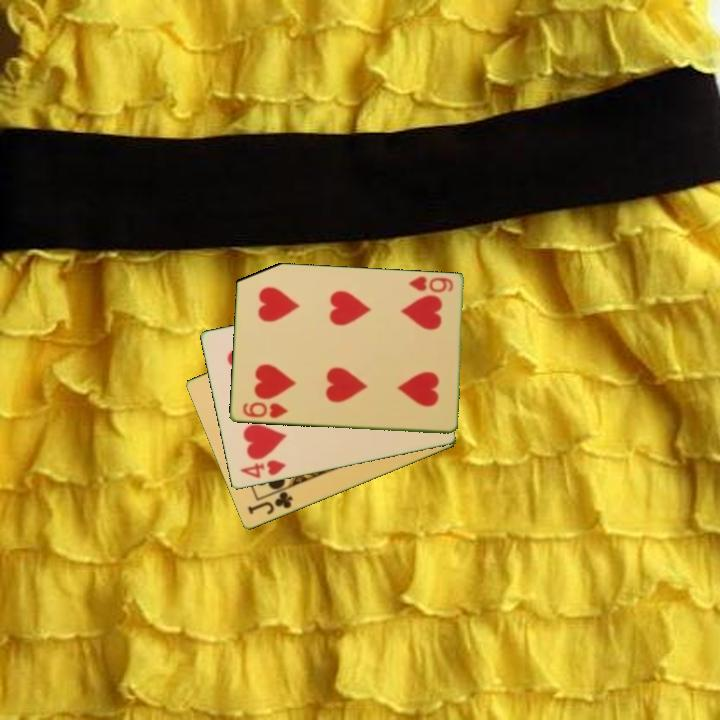4h: (237, 456, 289, 481)
6h: (405, 273, 456, 296), (239, 399, 290, 421)
Jc: (244, 488, 296, 518)
